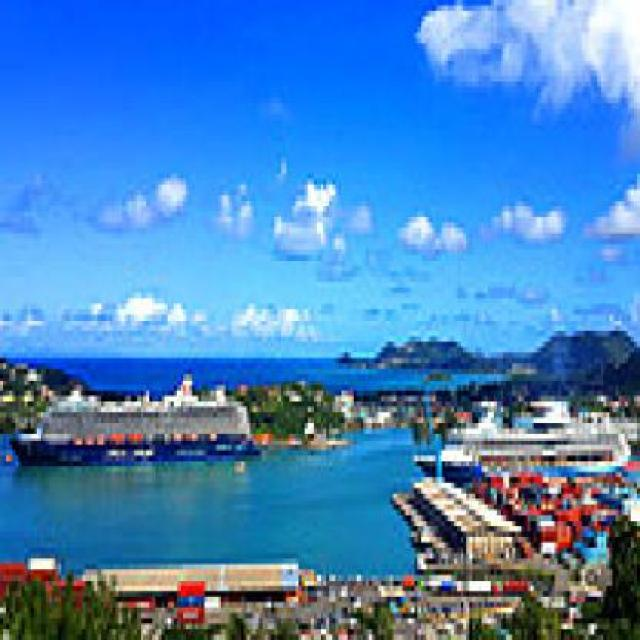cruise: (10, 375, 270, 473)
